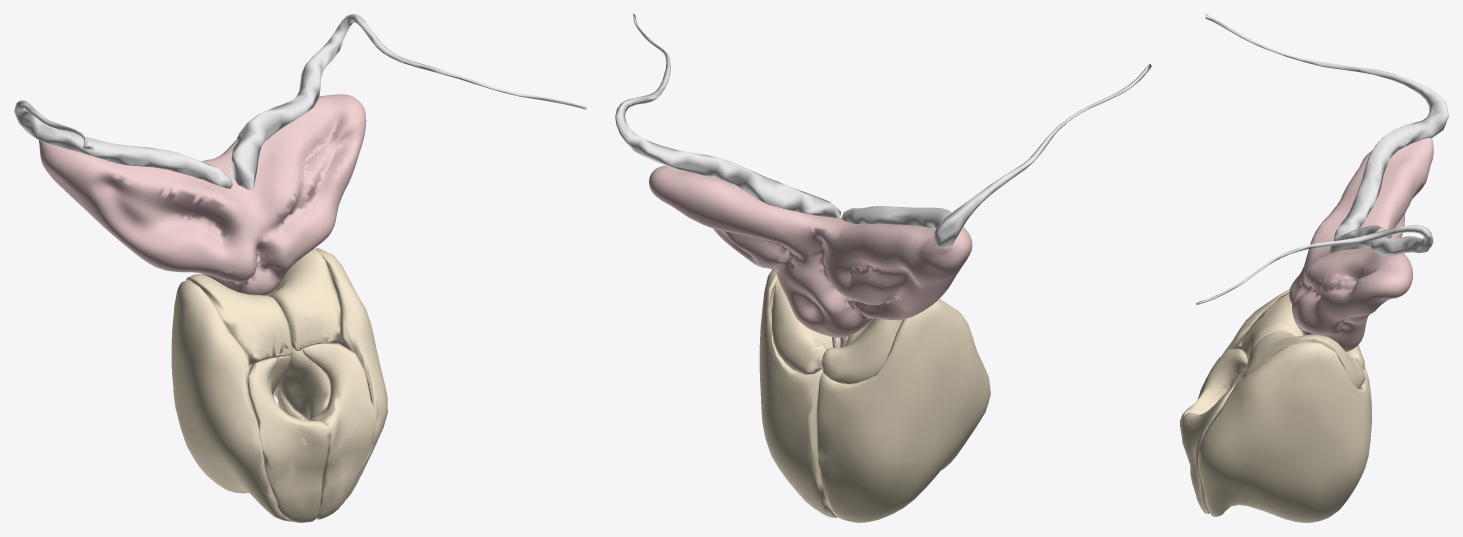
The model's file is vh_m_prostate-80.fbx.
3 renders of one model, left to right at view 1: azimuth 30°, elevation 25°; view 2: azimuth 150°, elevation 25°; view 3: azimuth 270°, elevation 25°, orthographic. The views are drawn at different scales.
Visible parts, largest first — view 1: VH_M_seminal_vesicle, VH_M_peripheral_zone_of_prostate_R, VH_M_anterior_fibromuscular_stroma_R, VH_M_anterior_fibromuscular_stroma_L, VH_M_vas_deferens_R, VH_M_vas_deferens_L, VH_M_central_zone_of_prostate_L, VH_M_peripheral_zone_of_prostate_L, VH_M_central_zone_of_prostate_R, VH_M_base_of_prostate, VH_M_transition_zone__of_prostate_L; view 2: VH_M_peripheral_zone_of_prostate_R, VH_M_seminal_vesicle, VH_M_peripheral_zone_of_prostate_L, VH_M_vas_deferens_R, VH_M_vas_deferens_L, VH_M_central_zone_of_prostate_R, VH_M_central_zone_of_prostate_L; view 3: VH_M_peripheral_zone_of_prostate_L, VH_M_seminal_vesicle, VH_M_vas_deferens_L, VH_M_vas_deferens_R, VH_M_central_zone_of_prostate_L, VH_M_central_zone_of_prostate_R, VH_M_anterior_fibromuscular_stroma_L, VH_M_anterior_fibromuscular_stroma_R, VH_M_base_of_prostate, VH_M_peripheral_zone_of_prostate_R.
Part boxes in pixels (<box>): VH_M_seminal_vesicle: <box>39,94,366,295</box>; VH_M_peripheral_zone_of_prostate_R: <box>171,280,293,521</box>; VH_M_anterior_fibromuscular_stroma_R: <box>248,357,329,522</box>; VH_M_anterior_fibromuscular_stroma_L: <box>302,343,375,519</box>; VH_M_vas_deferens_R: <box>231,14,586,190</box>; VH_M_vas_deferens_L: <box>14,100,232,188</box>; VH_M_central_zone_of_prostate_L: <box>267,248,340,387</box>; VH_M_peripheral_zone_of_prostate_L: <box>272,248,387,499</box>; VH_M_central_zone_of_prostate_R: <box>186,274,292,364</box>; VH_M_base_of_prostate: <box>235,317,367,454</box>; VH_M_transition_zone__of_prostate_L: <box>277,346,330,420</box>; VH_M_peripheral_zone_of_prostate_R: <box>816,299,990,522</box>; VH_M_seminal_vesicle: <box>649,165,972,337</box>; VH_M_peripheral_zone_of_prostate_L: <box>759,270,837,517</box>; VH_M_vas_deferens_R: <box>615,14,840,217</box>; VH_M_vas_deferens_L: <box>841,64,1151,247</box>; VH_M_central_zone_of_prostate_R: <box>821,318,902,383</box>; VH_M_central_zone_of_prostate_L: <box>772,277,848,374</box>; VH_M_peripheral_zone_of_prostate_L: <box>1198,342,1371,522</box>; VH_M_seminal_vesicle: <box>1289,138,1433,351</box>; VH_M_vas_deferens_L: <box>1205,14,1448,240</box>; VH_M_vas_deferens_R: <box>1196,225,1433,305</box>; VH_M_central_zone_of_prostate_L: <box>1241,332,1365,388</box>; VH_M_central_zone_of_prostate_R: <box>1241,292,1364,369</box>; VH_M_anterior_fibromuscular_stroma_L: <box>1181,379,1241,513</box>; VH_M_anterior_fibromuscular_stroma_R: <box>1180,349,1247,443</box>; VH_M_base_of_prostate: <box>1182,325,1253,447</box>; VH_M_peripheral_zone_of_prostate_R: <box>1200,289,1371,409</box>.
Bounding box in the file's own units: 8.3 × 7.06 × 4.28.
